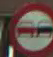No overtake: (5, 0, 52, 53)
